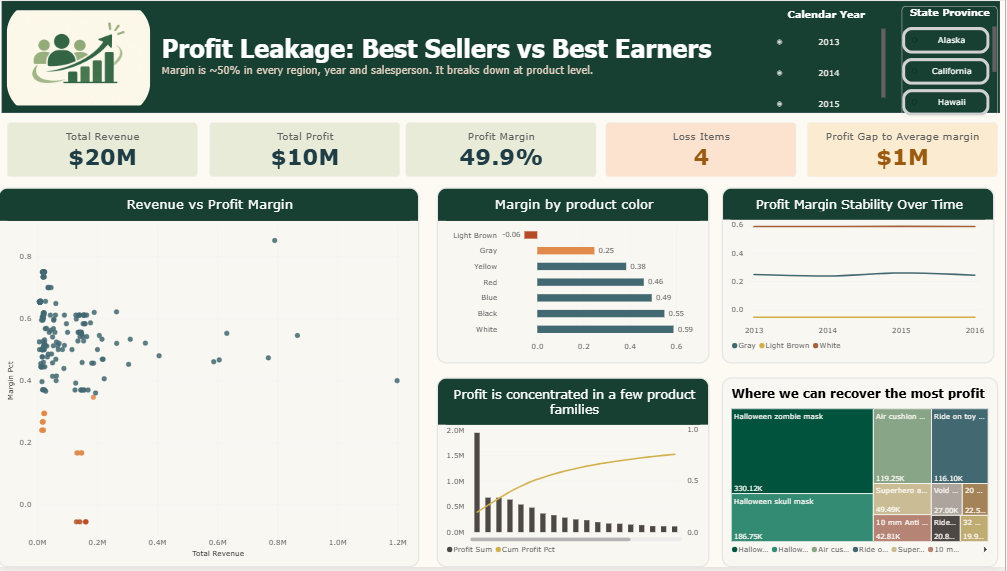

This screenshot's page, from the dashboard's own definition file:
{"tool":"powerbi","page":{"name":"Profitability & Product Mix","canvas":[1920,1080],"ordinal":0},"visuals":[{"type":"shape","box":[7.5,0,1903.3,213.3],"z":0},{"type":"textbox","box":[313.3,43.3,1186.7,173.3],"z":1000},{"type":"image","box":[16.7,0,273.3,216.7],"z":2000},{"type":"cardVisual","fields":{"Data":["FactSale.Total Revenue"]},"box":[16,230,364,105],"z":3000},{"type":"cardVisual","fields":{"Data":["FactSale.Total Profit"]},"box":[402,232,364,105],"z":4000},{"type":"cardVisual","fields":{"Data":["FactSale.Margin Pct"]},"box":[778,232,364,105],"z":5000},{"type":"cardVisual","fields":{"Data":["FactSale.Loss Items"]},"box":[1158,232,364,105],"z":6000},{"type":"cardVisual","fields":{"Data":["FactSale.Profit Gap Avg"]},"box":[1542,232,364,105],"z":7000},{"type":"scatterChart","title":"Revenue vs Profit Margin","fields":{"Category":["DimStockItem.Stock Item"],"X":["FactSale.Total Revenue"],"Y":["FactSale.Margin Pct"]},"box":[0,354,803.3,725],"z":8000},{"type":"clusteredBarChart","title":"Margin by product color","fields":{"Category":["DimStockItem.Color"],"Y":["FactSale.Margin Pct"]},"box":[837.5,355,520,336],"z":9000},{"type":"lineClusteredColumnComboChart","title":"Profit is concentrated in a few product families","fields":{"Category":["DimStockItem.Product Family"],"Y":["FactSale.Profit Sum"],"Y2":["FactSale.Cum Profit Pct"]},"box":[837.5,717.5,520,362.5],"z":10000},{"type":"lineChart","title":"Profit Margin Stability Over Time","fields":{"Category":["DimDate.Calendar Year"],"Series":["DimStockItem.Color"],"Y":["FactSale.Margin Pct"]},"box":[1380,354,520,336],"z":11000},{"type":"treemap","title":"Where we can recover the most profit","fields":{"Group":["DimStockItem.Product Family"],"Values":["FactSale.Profit Gap Avg"]},"box":[1380,717.5,527.5,362.5],"z":12000},{"type":"advancedSlicerVisual","fields":{"Values":["DimDate.Calendar Year"]},"box":[1466.7,13.3,226.7,210],"z":13000},{"type":"advancedSlicerVisual","fields":{"Values":["DimCity.State Province"]},"box":[1724,10,182,210],"z":14000}]}

Visuals, with their boxes in screenshot pixels (x1, y1, x2, y2), scaled from the page's 1920x1080 canvas onto the 1007x571 screenshot:
shape: [4, 0, 1002, 113]
textbox: [164, 23, 787, 115]
image: [9, 0, 152, 115]
cardVisual - FactSale.Total Revenue: [8, 122, 199, 177]
cardVisual - FactSale.Total Profit: [211, 123, 402, 178]
cardVisual - FactSale.Margin Pct: [408, 123, 599, 178]
cardVisual - FactSale.Loss Items: [607, 123, 798, 178]
cardVisual - FactSale.Profit Gap Avg: [809, 123, 1000, 178]
"Revenue vs Profit Margin" scatterChart: [0, 187, 421, 570]
"Margin by product color" clusteredBarChart: [439, 188, 712, 365]
"Profit is concentrated in a few product families" lineClusteredColumnComboChart: [439, 379, 712, 570]
"Profit Margin Stability Over Time" lineChart: [724, 187, 997, 365]
"Where we can recover the most profit" treemap: [724, 379, 1000, 570]
advancedSlicerVisual - DimDate.Calendar Year: [769, 7, 888, 118]
advancedSlicerVisual - DimCity.State Province: [904, 5, 1000, 116]
